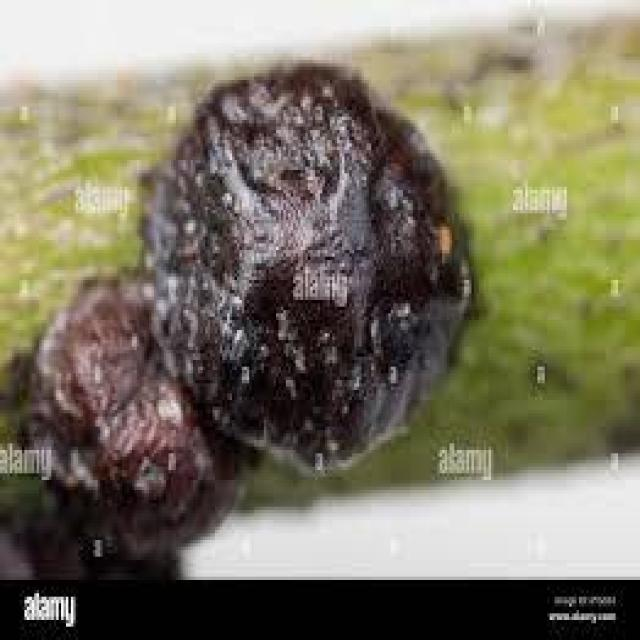Black Scale: (156, 67, 474, 470), (24, 273, 239, 573)
